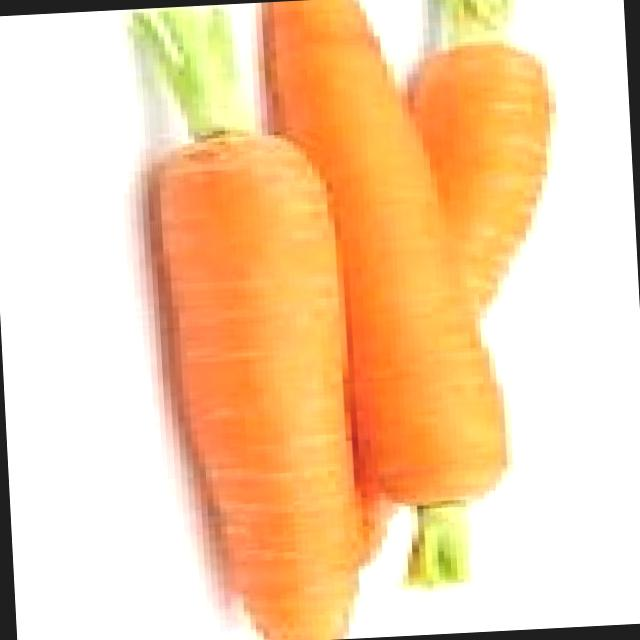carrot: (270, 0, 510, 521), (144, 127, 365, 640)
